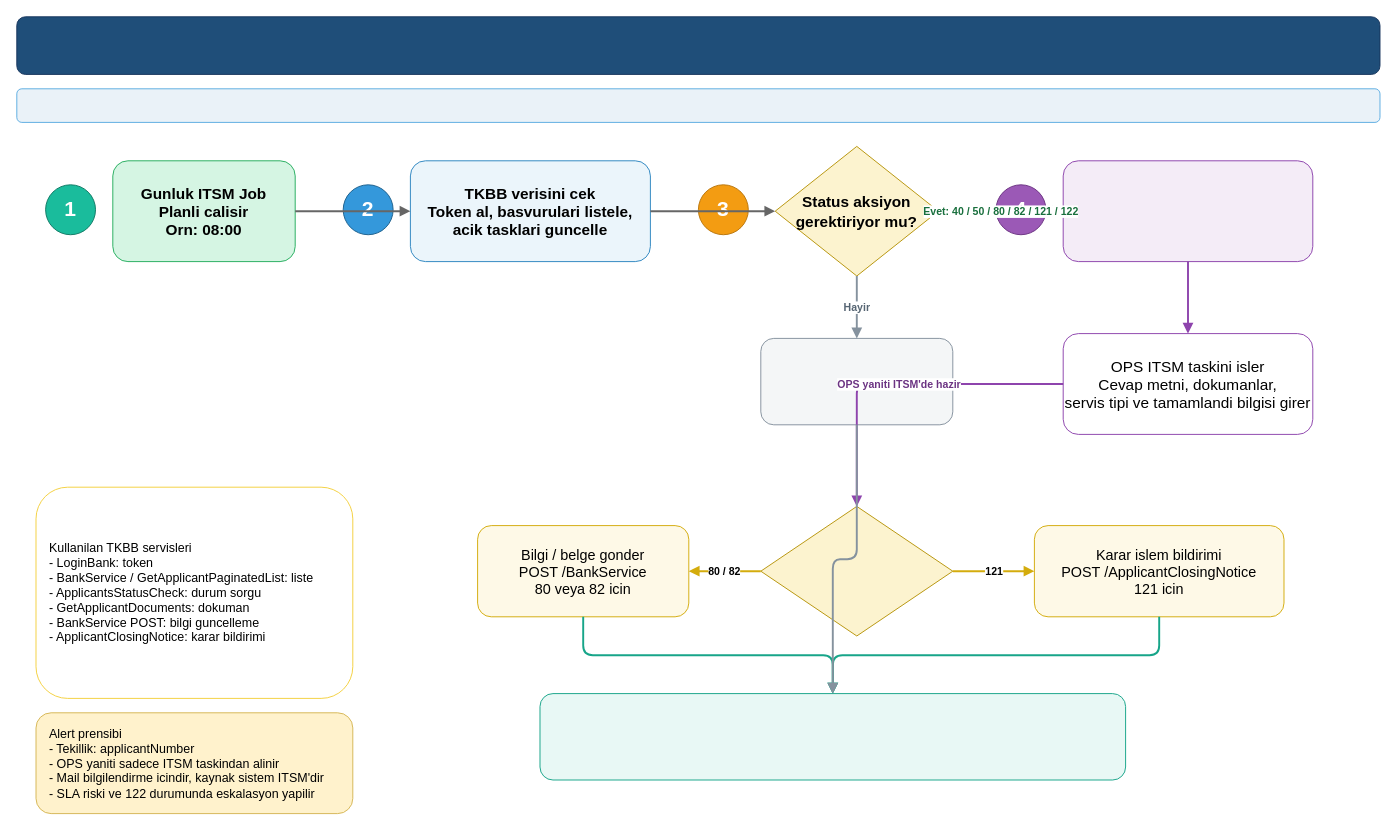
The diagram is 1397 pixels wide and 830 high, and some of its shapes have lost their labels. The shapes that lost their labels are listed below. From the top down, each one's centre as x and y in pixels, then its label:
the point at 698,45: ITSM - TKBB Gunluk Otomasyon Akisi
the point at 698,105: Okuma sirasi: soldan saga ana akis. Status/alert detaylari ikinci sayfada.
the point at 1187,211: Evet ITSM Task ac/guncelle OPS alert + mail uret
the point at 856,381: Hayir ITSM kaydini senkronize et gerekirse kapat / izle
the point at 856,570: ITSM otomasyon hangi servisi cagiracak?
the point at 832,736: Sonucu ITSM'e yaz resultCode, resultMessage, hata varsa teknik incident / retry
